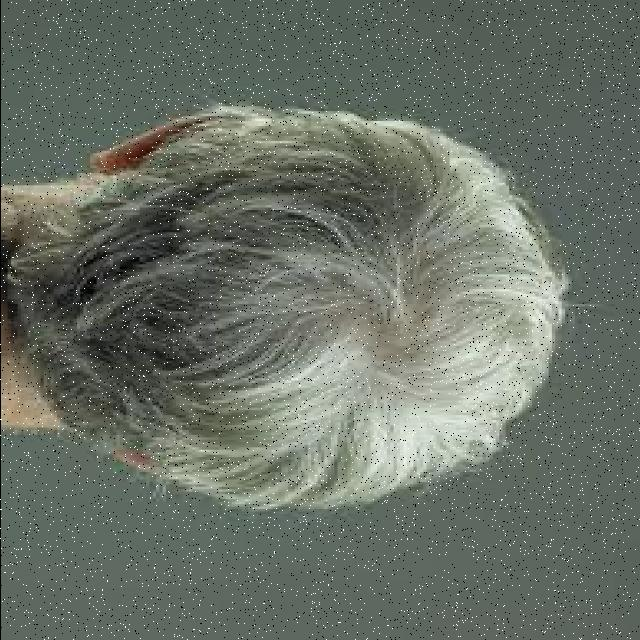Non_Helmet: (34, 73, 610, 545)
